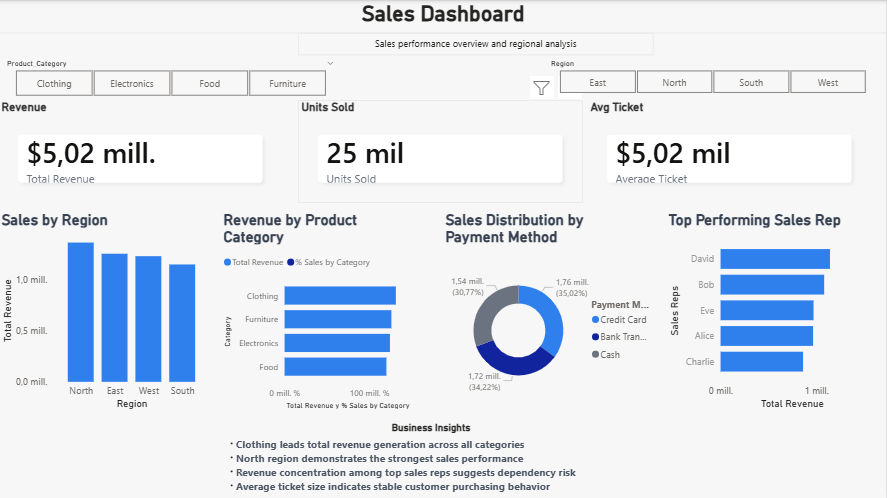

What the dashboard file says about the page in this screenshot:
{"tool":"powerbi","page":{"name":"Página 1","canvas":[1280,720],"ordinal":0},"visuals":[{"type":"cardVisual","title":"Revenue","fields":{"Data":["Sum(TablaVentas.Sales_Amount)"]},"box":[0,144,410,148],"z":0},{"type":"cardVisual","title":"Units Sold","fields":{"Data":["Sum(TablaVentas.Quantity_Sold)"]},"box":[432,144,410,148],"z":1000},{"type":"cardVisual","title":"Avg Ticket","fields":{"Data":["TablaVentas.Ticket Promedio"]},"box":[848,144,410,148],"z":2000},{"type":"lineStackedColumnComboChart","title":"Sales by Region","fields":{"Category":["TablaVentas.Region"],"Y":["Sum(TablaVentas.Sales_Amount)"]},"box":[0,304,310,290],"z":3000},{"type":"barChart","title":"Revenue by Product Category","fields":{"Category":["TablaVentas.Product_Category"],"Y":["Sum(TablaVentas.Sales_Amount)","TablaVentas.% Sales by Category"]},"box":[320,304,310,290],"z":4000},{"type":"clusteredBarChart","title":"Top Performing Sales Rep","fields":{"Category":["TablaVentas.Sales_Rep"],"Y":["Sum(TablaVentas.Sales_Amount)"]},"box":[960,304,310,290],"z":5000},{"type":"donutChart","title":"Sales Distribution by Payment Method","fields":{"Category":["TablaVentas.Payment_Method"],"Y":["Sum(TablaVentas.Sales_Amount)"]},"box":[640,304,310,290],"z":6000},{"type":"slicer","fields":{"Values":["TablaVentas.Region"]},"box":[784,80,490,60],"z":7000},{"type":"textbox","title":"Sales Dashboard","box":[0,0,1280,48],"z":8000},{"type":"textbox","box":[432,48,512,32],"z":9000},{"type":"slicer","fields":{"Values":["TablaVentas.Product_Category"]},"box":[0,80,496,64],"z":10000},{"type":"textbox","title":"Business Insights","box":[320,608,608,112],"z":11000}]}

Visuals, with their boxes in screenshot pixels (x1, y1, x2, y2), scaled from the page's 1280x720 canvas onto the 887x498 screenshot:
"Revenue" cardVisual: locate(0, 100, 284, 202)
"Units Sold" cardVisual: locate(299, 100, 583, 202)
"Avg Ticket" cardVisual: locate(588, 100, 872, 202)
"Sales by Region" lineStackedColumnComboChart: locate(0, 210, 215, 411)
"Revenue by Product Category" barChart: locate(222, 210, 437, 411)
"Top Performing Sales Rep" clusteredBarChart: locate(665, 210, 880, 411)
"Sales Distribution by Payment Method" donutChart: locate(444, 210, 658, 411)
slicer - TablaVentas.Region: locate(543, 55, 883, 97)
"Sales Dashboard" textbox: locate(0, 0, 886, 33)
textbox: locate(299, 33, 654, 55)
slicer - TablaVentas.Product_Category: locate(0, 55, 344, 100)
"Business Insights" textbox: locate(222, 421, 643, 497)
